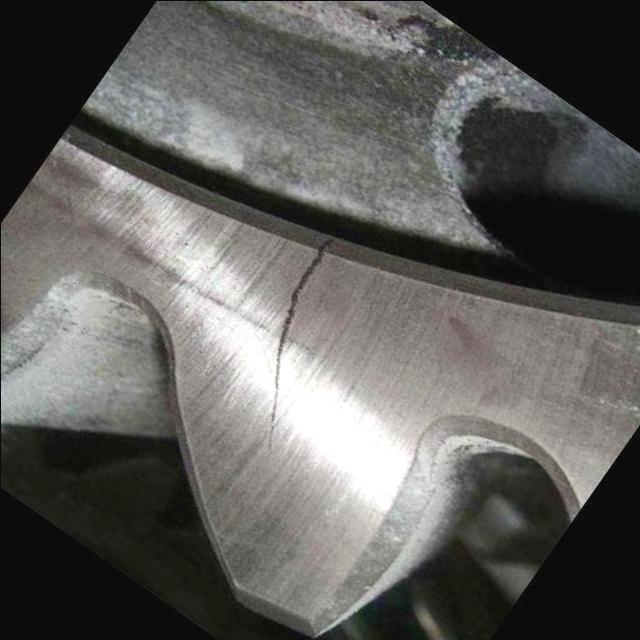defect: (260, 232, 337, 459)
